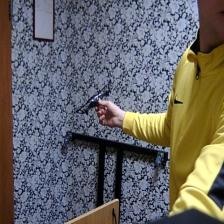drone: (70, 78, 113, 118)
